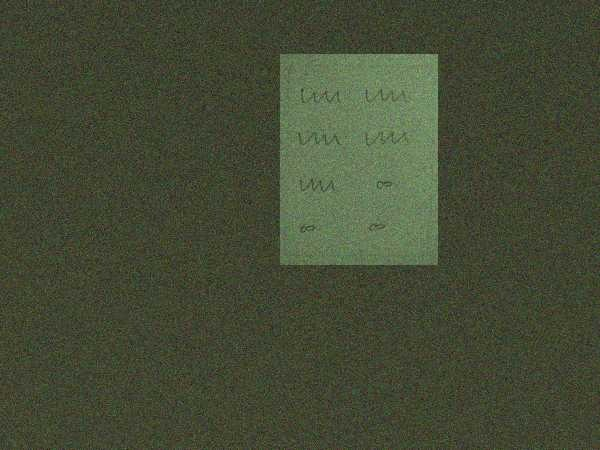switch: (372, 175, 397, 194), (367, 218, 388, 234), (297, 222, 318, 236)
text: (297, 84, 347, 109), (363, 127, 413, 151), (295, 126, 341, 150), (362, 85, 411, 106), (297, 175, 339, 197)
